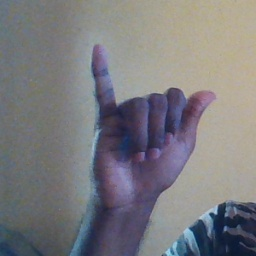J: (81, 43, 217, 205)
